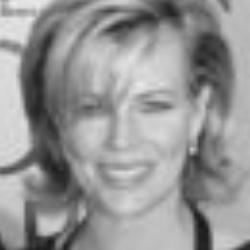face: (19, 1, 228, 223)
